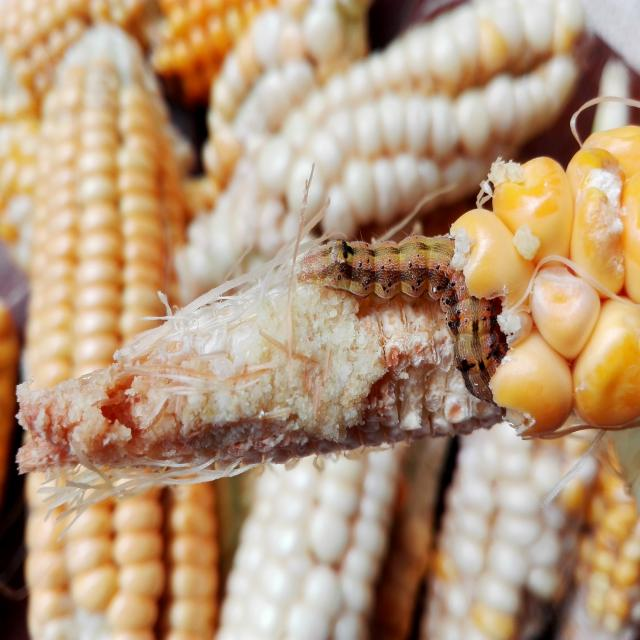cornborer-Larva-: (278, 228, 520, 405)
